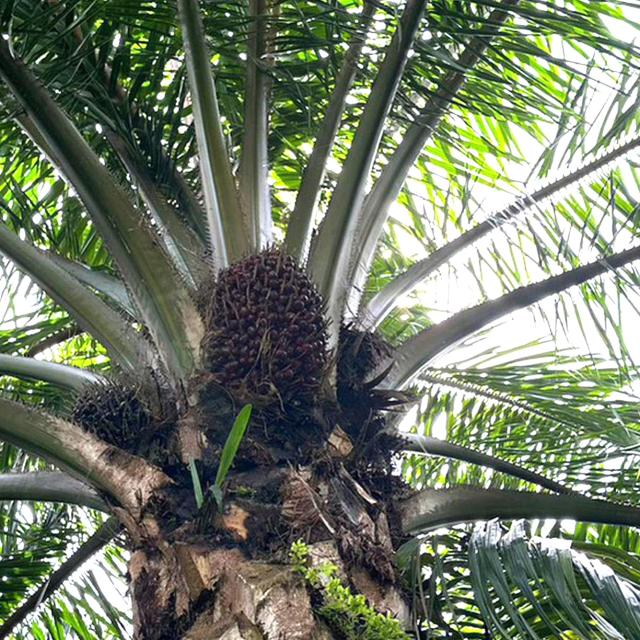ripe: (205, 241, 334, 400), (68, 372, 171, 450)
